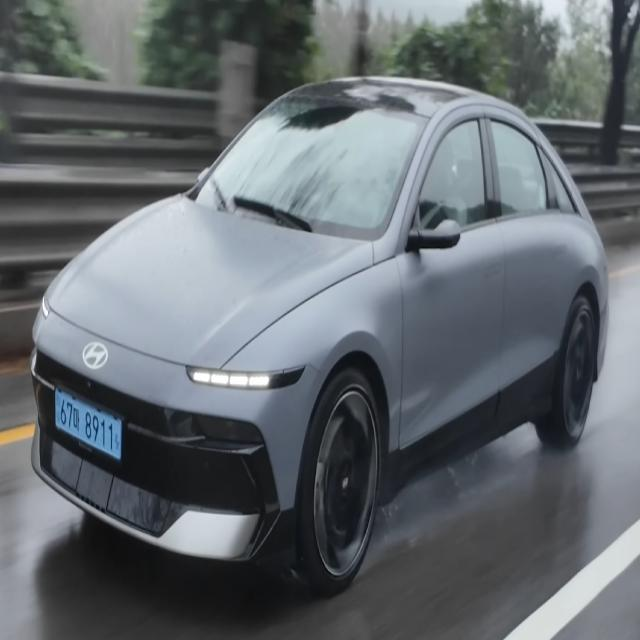car: (47, 372, 137, 473)
carev: (114, 406, 129, 467), (52, 384, 62, 434)
